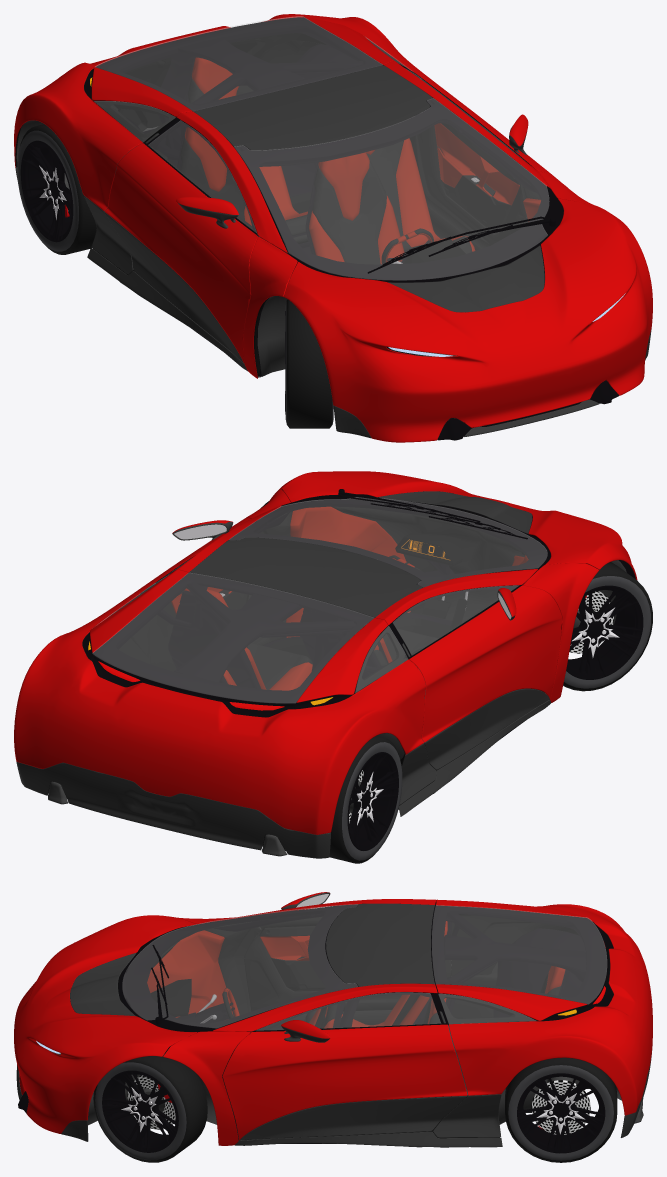
Rendered from khronos.glb.
The picture shows the model from 3 angles, top to bottom: view 1: azimuth 30°, elevation 25°; view 2: azimuth 150°, elevation 25°; view 3: azimuth 270°, elevation 25°; orthographic projection. The views are drawn at different scales.
Visible parts, largest first — view 1: BodyHood, BodyWindshield, BodyRearwindow, BodyDoorRColor1, BodyRearPanelsColor1, BodyRoofPanel, BodyWindshieldGasket, InteriorSeatsColor1, InteriorSeatsColor2, BodyPillars, InteriorPillar, InteriorRearHatch (+21 smaller); view 2: BodyRearPanelsColor1, BodyRearwindow, BodyWindshield, BodyPanelsColor2, BodyDoorRColor1, BodyRoofPanel, BodyHood, InteriorRearHatch, BodyPillars, InteriorPillar, BodyWindshieldGasket, InteriorDashMid (+21 smaller); view 3: BodyRearPanelsColor1, BodyWindshield, BodyDoorLColor1, BodyHood, BodyRearwindow, BodyRoofPanel, BodyPillars, BodyWindshieldGasket, BodyDoorLColor2, BodyPanelsColor2, object 83, InteriorRearHatch (+25 smaller).
Part boxes in pixels (box(x1,y1,x2,y2)): BodyHood: box(283, 198, 652, 442); BodyWindshield: box(234, 98, 549, 280); BodyRearwindow: box(95, 16, 382, 110); BodyDoorRColor1: box(104, 143, 257, 362); BodyRearPanelsColor1: box(14, 14, 428, 210); BodyRoofPanel: box(193, 65, 432, 150); BodyWindshieldGasket: box(234, 99, 563, 282); InteriorSeatsColor1: box(185, 57, 475, 264); InteriorSeatsColor2: box(180, 78, 472, 264); BodyPillars: box(176, 61, 598, 378); InteriorPillar: box(158, 37, 434, 168); InteriorRearHatch: box(93, 17, 383, 117); BodyRearPanelsColor1: box(14, 569, 425, 834); BodyRearwindow: box(92, 573, 373, 703); BodyWindshield: box(229, 497, 547, 587); BodyPanelsColor2: box(16, 700, 550, 858); BodyDoorRColor1: box(409, 585, 562, 742); BodyRoofPanel: box(189, 537, 422, 617); BodyHood: box(279, 471, 637, 579); InteriorRearHatch: box(93, 573, 386, 707); BodyPillars: box(175, 489, 599, 702); InteriorPillar: box(174, 574, 417, 682); BodyWindshieldGasket: box(230, 497, 550, 587); InteriorDashMid: box(331, 503, 528, 622); BodyRearPanelsColor1: box(436, 899, 652, 1115); BodyWindshield: box(122, 904, 357, 1028); BodyDoorLColor1: box(222, 1024, 467, 1139); BodyHood: box(14, 915, 196, 1133); BodyRearwindow: box(432, 905, 606, 1003); BodyRoofPanel: box(326, 903, 434, 986); BodyPillars: box(163, 899, 437, 1145); BodyWindshieldGasket: box(118, 905, 357, 1032); BodyDoorLColor2: box(240, 1096, 467, 1140); BodyPanelsColor2: box(16, 1050, 652, 1147); object 83: box(93, 1054, 207, 1162); InteriorRearHatch: box(431, 905, 606, 1020).
Size of the model in its own units: 2.54 by 1.15 by 4.36.
22 materials, 4 textured.
